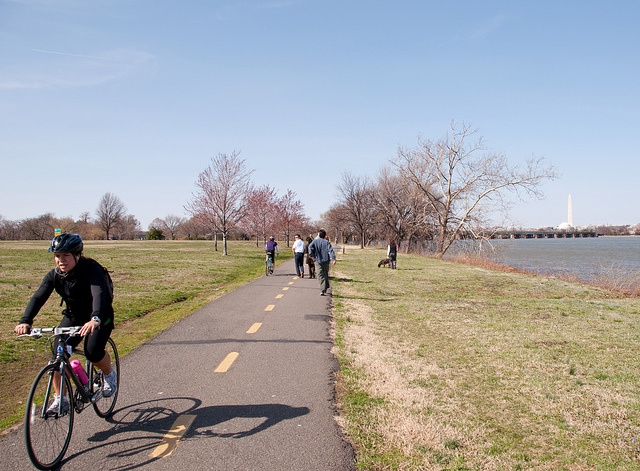non-vehicle: (16, 322, 124, 464), (263, 251, 276, 276)
